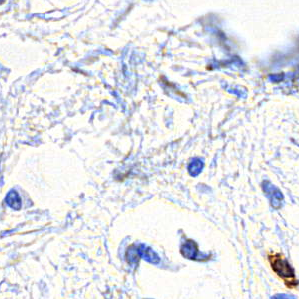Lymphocyte: (268, 252, 297, 287)
